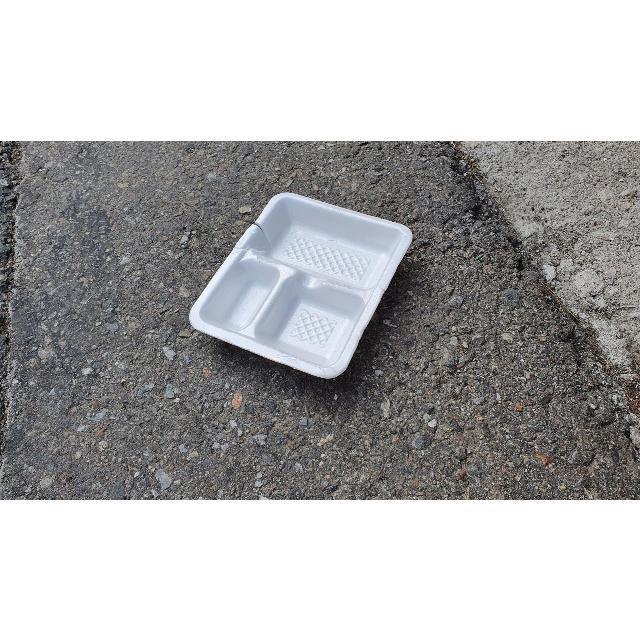Plastico descartable: (188, 193, 413, 383)
